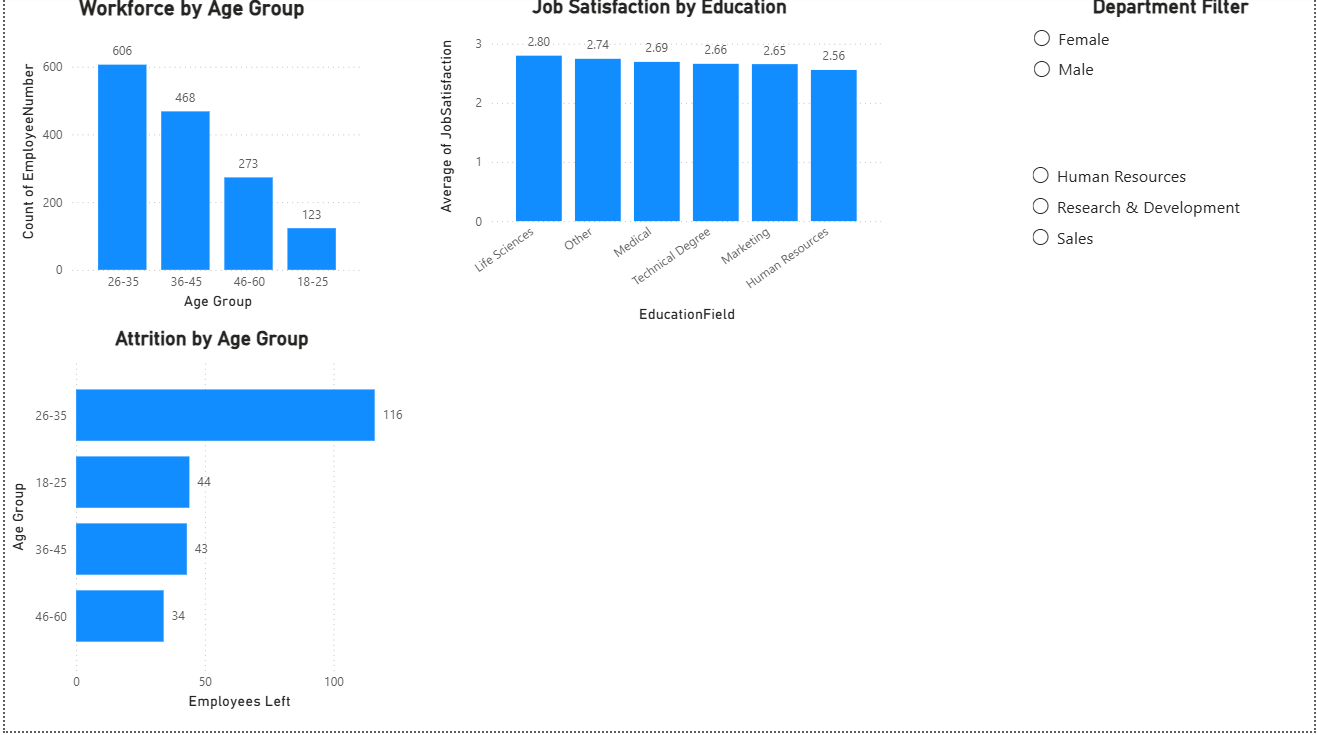

What the dashboard file says about the page in this screenshot:
{"tool":"powerbi","page":{"name":"Employee Satisfaction & Demographics","canvas":[1280,720],"ordinal":2},"visuals":[{"type":"clusteredColumnChart","title":"Workforce by Age Group","fields":{"Category":["WA_Fn-UseC_-HR-Employee-Attrition.Age Group"],"Y":["CountNonNull(WA_Fn-UseC_-HR-Employee-Attrition.EmployeeNumber)"]},"box":[9.6,0,345.8,312.9],"z":0},{"type":"clusteredBarChart","title":"Attrition by Age Group","fields":{"Category":["WA_Fn-UseC_-HR-Employee-Attrition.Age Group"],"Y":["WA_Fn-UseC_-HR-Employee-Attrition.Employees Left"]},"box":[0,325.2,404.8,378.7],"z":1000},{"type":"columnChart","title":"Job Satisfaction by Education","fields":{"Category":["WA_Fn-UseC_-HR-Employee-Attrition.EducationField"],"Y":["Avg(WA_Fn-UseC_-HR-Employee-Attrition.JobSatisfaction)"]},"box":[418.5,0,444.6,325.2],"z":2000},{"type":"listSlicer","title":"Department Filter","fields":{"Values":["WA_Fn-UseC_-HR-Employee-Attrition.Department"]},"box":[999,134.5,281.3,155.1],"z":3000},{"type":"listSlicer","title":"Department Filter","fields":{"Values":["WA_Fn-UseC_-HR-Employee-Attrition.Gender"]},"box":[1000.3,0,279.9,156.4],"z":4000}]}

Visuals, with their boxes in screenshot pixels (x1, y1, x2, y2), scaled from the page's 1280x720 canvas onto the 1317x735 screenshot:
"Workforce by Age Group" clusteredColumnChart: select_region(10, 0, 366, 319)
"Attrition by Age Group" clusteredBarChart: select_region(0, 332, 417, 719)
"Job Satisfaction by Education" columnChart: select_region(431, 0, 888, 332)
"Department Filter" listSlicer: select_region(1028, 137, 1316, 296)
"Department Filter" listSlicer: select_region(1029, 0, 1316, 160)
